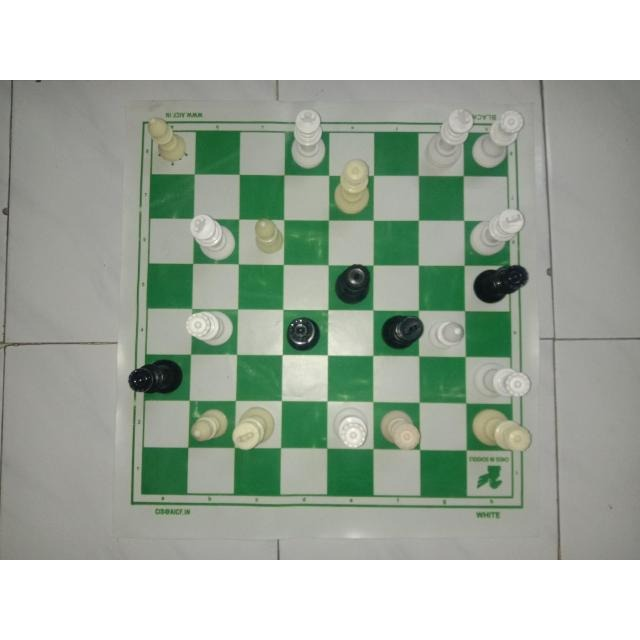black-king: (381, 312, 423, 354)
black-queen: (124, 353, 187, 398), (475, 263, 531, 305), (282, 313, 325, 355), (330, 262, 373, 302)
white-bishop: (142, 112, 188, 166), (427, 316, 467, 352), (187, 408, 228, 442), (252, 216, 285, 255)
white-king: (425, 107, 477, 171), (468, 207, 526, 259), (230, 402, 279, 454), (289, 107, 325, 173), (189, 213, 237, 261)
white-queen: (472, 109, 526, 166), (471, 406, 533, 454), (469, 357, 533, 401), (332, 158, 374, 215), (329, 404, 374, 453), (378, 407, 422, 453), (186, 310, 236, 346)
